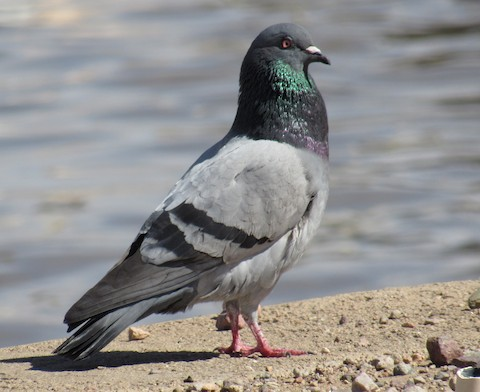pigeon: (47, 21, 344, 375)
